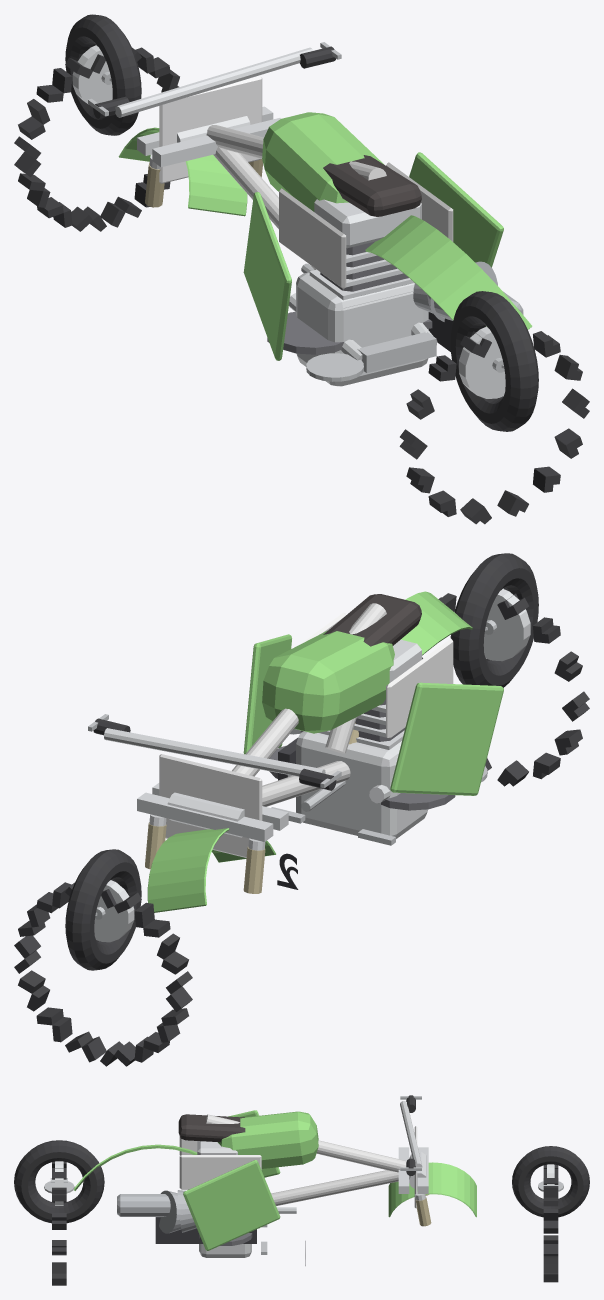
3 views of the same model, one above another, from view 1: azimuth 30°, elevation 25°; view 2: azimuth 150°, elevation 25°; view 3: azimuth 270°, elevation 25° (orthographic). The views are drawn at different scales.
Parts seen in each view (by area): view 1: b_rear_wheel_tire, b_engine_case, b_tank, b_rear_fender, b_shroud_-1, b_front_wheel_tire, b_front_plate, b_shroud_1, b_sideplate_-1, b_seat, b_front_fender, b_engine_head (+13 smaller); view 2: b_shroud_-1, b_tank, b_engine_case, b_rear_wheel_tire, b_front_wheel_tire, b_front_plate, b_front_fender, b_sideplate_-1, b_handlebar, b_seat, b_clamp, b_shroud_1 (+9 smaller); view 3: b_shroud_1, b_rear_wheel_tire, b_tank, b_front_wheel_tire, b_front_fender, b_frame_down, b_sideplate_1, b_frame_spine, b_seat, b_silencer, b_chain_guard, b_pipe_c1 (+10 smaller).
Boxes of the visible parts, x1=… form: b_rear_wheel_tire: x1=450, y1=291, x2=538, y2=431; b_engine_case: x1=296, y1=272, x2=428, y2=386; b_tank: x1=262, y1=112, x2=384, y2=211; b_rear_fender: x1=365, y1=215, x2=532, y2=329; b_shroud_-1: x1=243, y1=192, x2=291, y2=360; b_front_wheel_tire: x1=65, y1=14, x2=141, y2=135; b_front_plate: x1=159, y1=76, x2=262, y2=183; b_shroud_1: x1=409, y1=152, x2=503, y2=267; b_sideplate_-1: x1=279, y1=188, x2=346, y2=289; b_seat: x1=323, y1=155, x2=421, y2=216; b_front_fender: x1=118, y1=127, x2=247, y2=216; b_engine_head: x1=314, y1=199, x2=421, y2=248; b_shroud_-1: x1=390, y1=682, x2=503, y2=795; b_tank: x1=262, y1=630, x2=394, y2=733; b_engine_case: x1=296, y1=731, x2=428, y2=838; b_rear_wheel_tire: x1=450, y1=553, x2=538, y2=687; b_front_wheel_tire: x1=65, y1=849, x2=141, y2=970; b_front_plate: x1=159, y1=754, x2=262, y2=857; b_front_fender: x1=147, y1=828, x2=275, y2=912; b_sideplate_-1: x1=386, y1=638, x2=453, y2=739; b_handlebar: x1=104, y1=728, x2=325, y2=776; b_seat: x1=323, y1=594, x2=421, y2=646; b_clamp: x1=137, y1=792, x2=273, y2=841; b_shroud_1: x1=243, y1=634, x2=291, y2=754; b_shroud_1: x1=183, y1=1160, x2=280, y2=1250; b_rear_wheel_tire: x1=14, y1=1140, x2=104, y2=1223; b_tank: x1=217, y1=1111, x2=318, y2=1168; b_front_wheel_tire: x1=512, y1=1146, x2=589, y2=1217; b_front_fender: x1=388, y1=1162, x2=476, y2=1217; b_frame_down: x1=271, y1=1170, x2=398, y2=1205; b_sideplate_1: x1=179, y1=1155, x2=261, y2=1189; b_frame_spine: x1=206, y1=1114, x2=406, y2=1172; b_seat: x1=178, y1=1114, x2=245, y2=1142; b_silencer: x1=117, y1=1194, x2=170, y2=1216; b_chain_guard: x1=155, y1=1217, x2=256, y2=1243; b_pipe_c1: x1=159, y1=1190, x2=181, y2=1233.
Bounding box in the file's own units: 0.712 × 0.7529 × 2.39.
